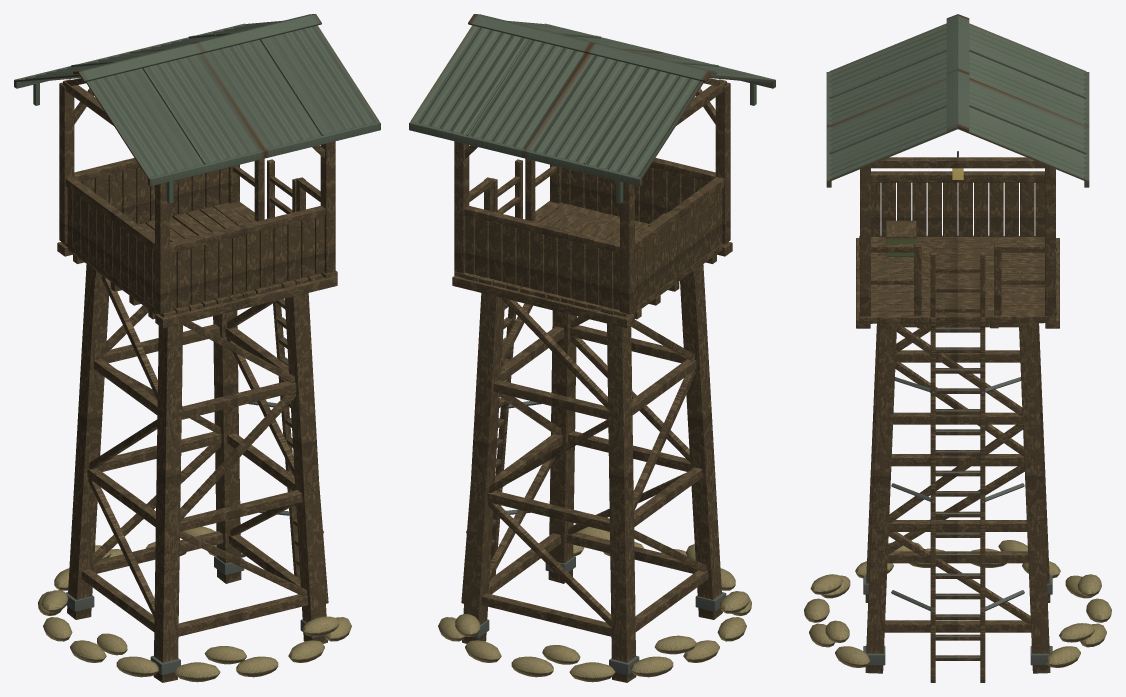
File: wachttoren.glb
3 views of the same model, side by side, from view 1: azimuth 30°, elevation 25°; view 2: azimuth 150°, elevation 25°; view 3: azimuth 270°, elevation 25° (orthographic). The views are drawn at different scales.
Parts seen in each view (by area): view 1: Toren_paal, Toren_dak, Toren_plank2, Toren_plank1, Toren_dakrib, Toren_zak, Toren_plank3, Toren_metaal; view 2: Toren_paal, Toren_dak, Toren_plank1, Toren_plank2, Toren_dakrib, Toren_zak, Toren_plank3, Toren_metaal; view 3: Toren_paal, Toren_dak, Toren_plank1, Toren_plank3, Toren_zak, Toren_dakrib, Toren_plank2, Toren_metaal.
Boxes of the visible parts, x1,y1,x2,y2 form: Toren_paal: (57, 78, 337, 682); Toren_dak: (15, 20, 379, 178); Toren_plank2: (67, 168, 324, 306); Toren_plank1: (80, 167, 337, 308); Toren_dakrib: (14, 14, 380, 203); Toren_zak: (38, 526, 351, 682); Toren_plank3: (62, 176, 299, 565); Toren_metaal: (65, 299, 323, 674); Toren_paal: (452, 78, 732, 682); Toren_dak: (410, 20, 774, 179); Toren_plank1: (454, 167, 708, 310); Toren_plank2: (502, 167, 722, 306); Toren_dakrib: (409, 14, 775, 203); Toren_zak: (438, 526, 751, 682); Toren_plank3: (490, 175, 728, 560); Toren_metaal: (466, 317, 726, 674); Toren_paal: (856, 157, 1059, 682); Toren_dak: (829, 23, 1086, 181); Toren_plank1: (859, 182, 1056, 323); Toren_plank3: (859, 182, 1056, 660); Toren_zak: (804, 540, 1111, 667); Toren_dakrib: (826, 14, 1089, 187); Toren_plank2: (871, 182, 1056, 273); Toren_metaal: (863, 151, 1052, 665).
Bounding box in the file's own units: 3.91 × 8.58 × 4.23.
Materials: 6 (5 with a texture image).
